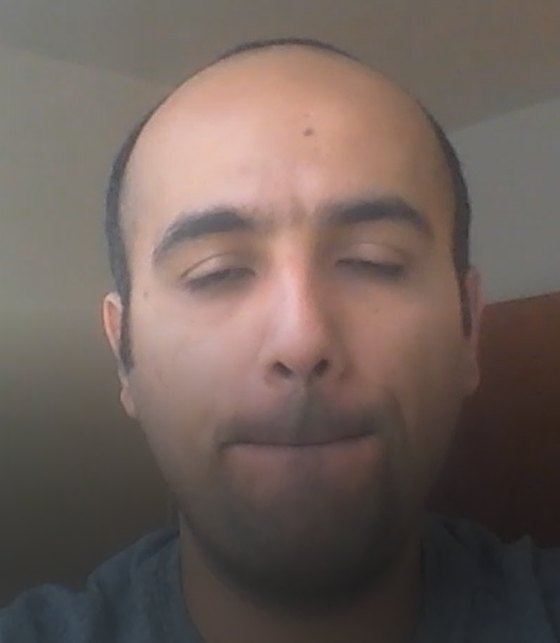Sleeping: (152, 194, 445, 318)
